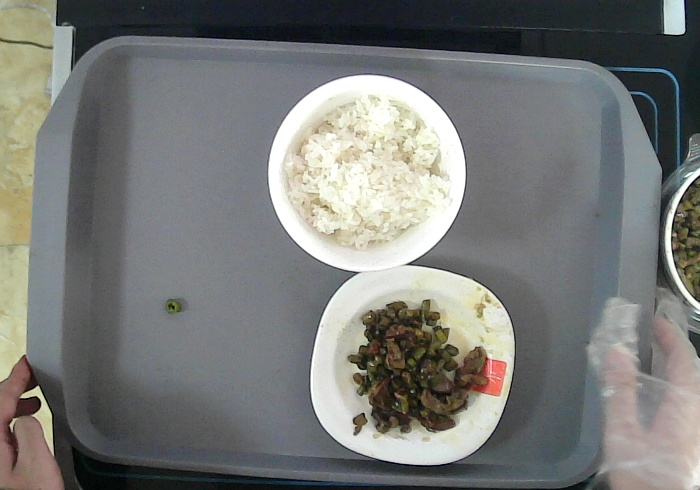SHKJ-Bai_Se_Si_Fang_Cai_Die: (310, 265, 517, 465)
SHKJ-Fan_Wan: (268, 75, 464, 272)
